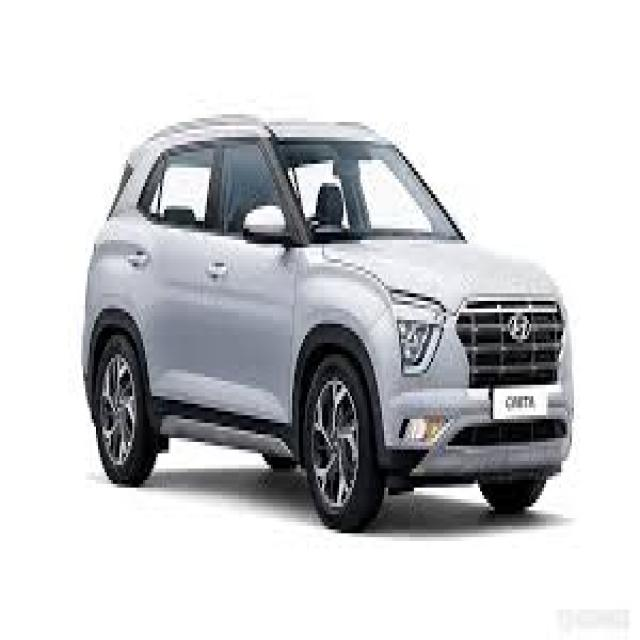SUV: (86, 102, 581, 533)
